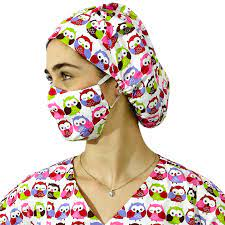with_mask_and_cap: (41, 5, 141, 145)
